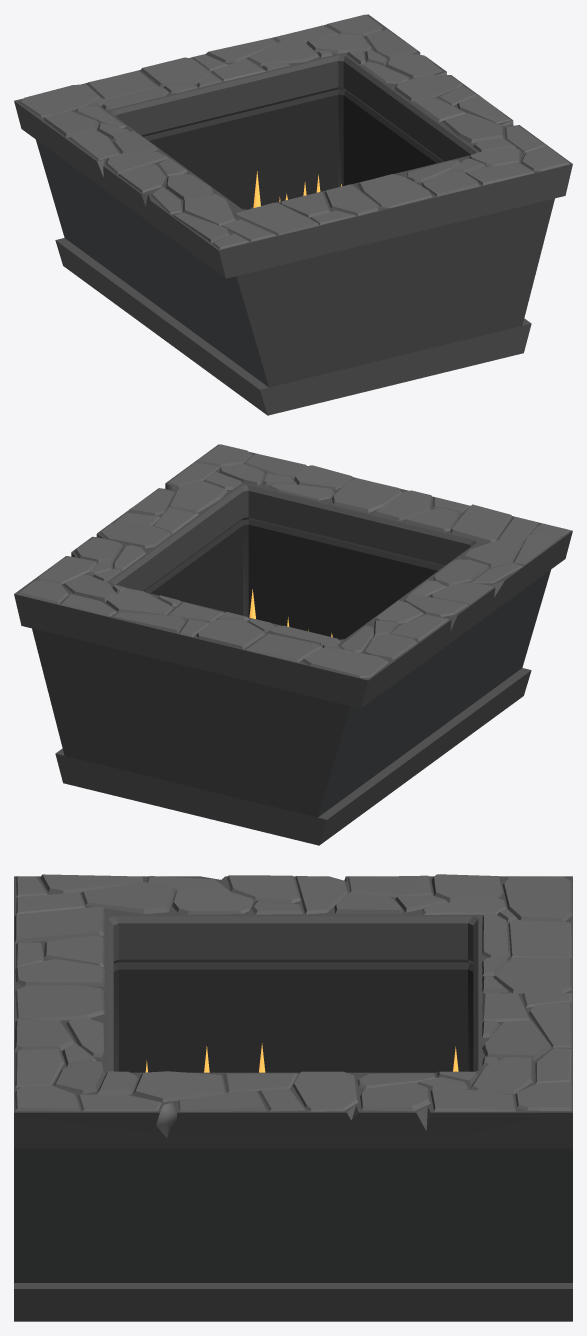
File: obstacle_11_001.glb
The picture shows the model from 3 angles, top to bottom: view 1: azimuth 30°, elevation 25°; view 2: azimuth 150°, elevation 25°; view 3: azimuth 270°, elevation 25°; orthographic projection. The views are drawn at different scales.
Visible parts, largest first — view 1: obstacle_11_001; view 2: obstacle_11_001; view 3: obstacle_11_001.
Part boxes in pixels (box(x1,y1,x2,y2)): obstacle_11_001: box(14, 14, 572, 415); obstacle_11_001: box(14, 444, 572, 845); obstacle_11_001: box(14, 874, 572, 1321).
Size of the model in its own units: 10 by 4.86 by 10.
Materials: 2 (2 with a texture image).
